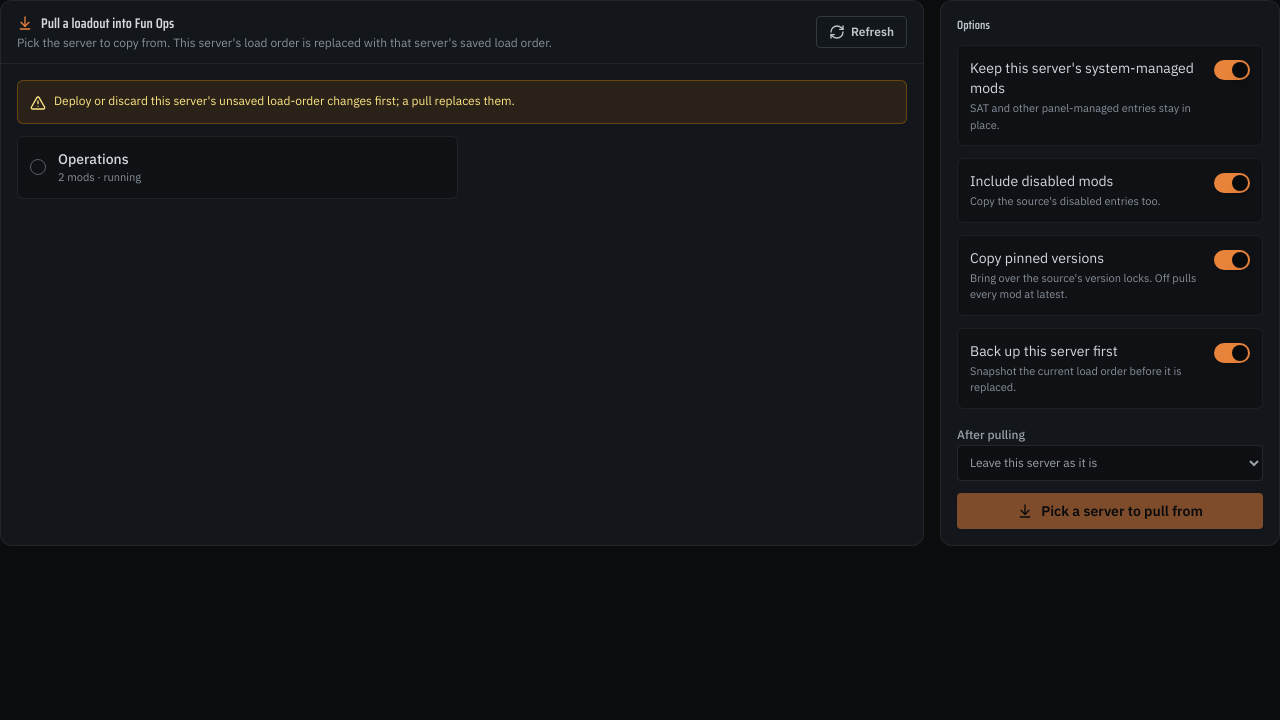
Scenario: MirrorPullPanel › blocks a pull while this server has unsaved load-order changes
Click the radio button labelled "Operations 2 mods · running" at (93, 159), box [17,136,458,198]
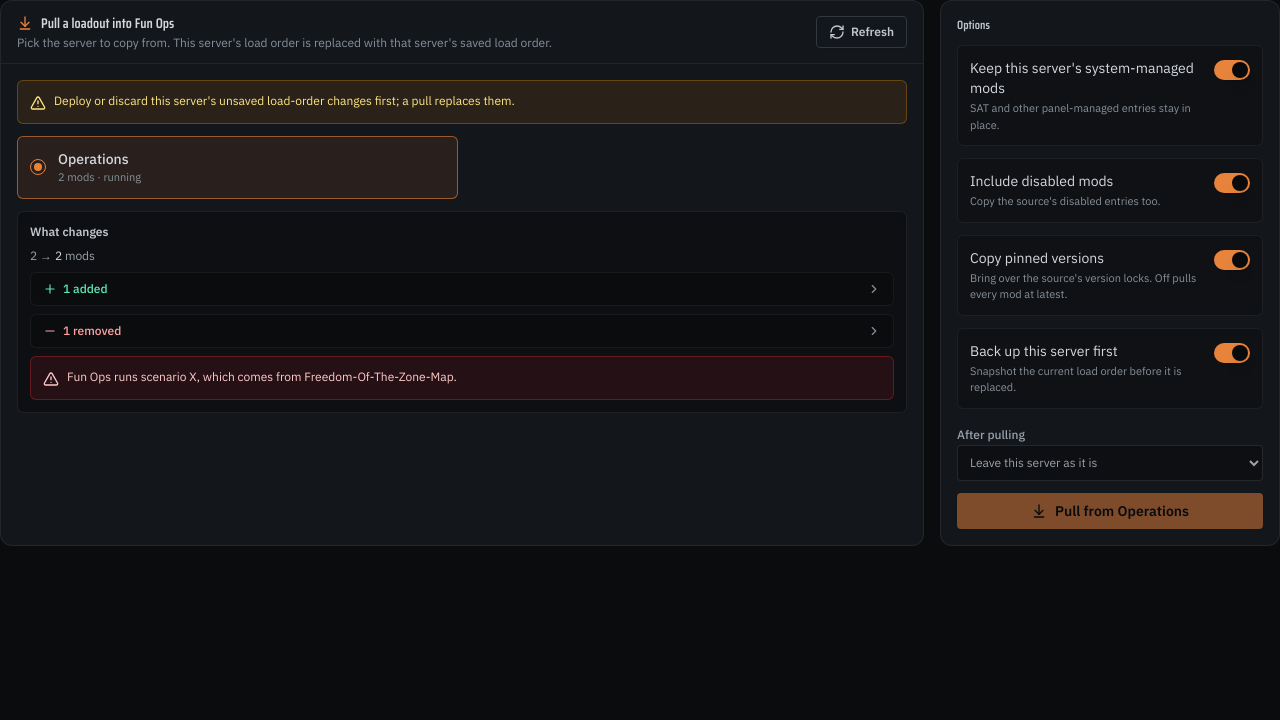
Check: the button "Pull from Operations" is disabled, box [957,492,1263,528]
Check: the text "1 added" is shown, box [43,280,108,296]
